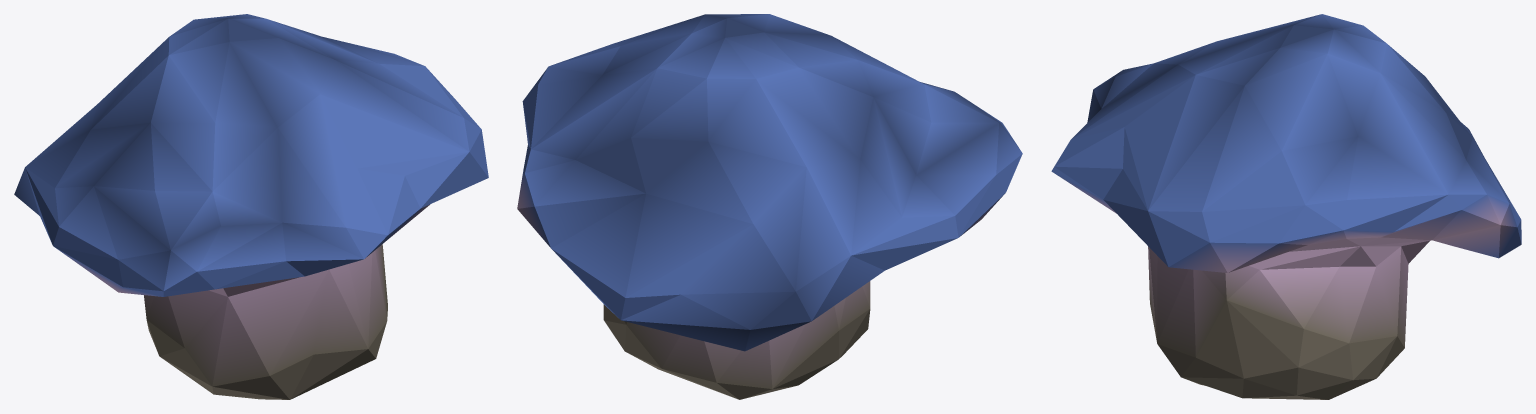
File: Mushroom6.fbx
The picture shows the model from 3 angles, left to right: view 1: azimuth 30°, elevation 25°; view 2: azimuth 150°, elevation 25°; view 3: azimuth 270°, elevation 25°; orthographic projection. The views are drawn at different scales.
Parts seen in each view (by area): view 1: Mushroom6; view 2: Mushroom6; view 3: Mushroom6.
Boxes of the visible parts, box(x1,y1,x2,y2) form: Mushroom6: box(14, 14, 488, 399); Mushroom6: box(517, 14, 1022, 399); Mushroom6: box(1051, 14, 1521, 399).
Bounding box in the file's own units: 513 × 402 × 509.
